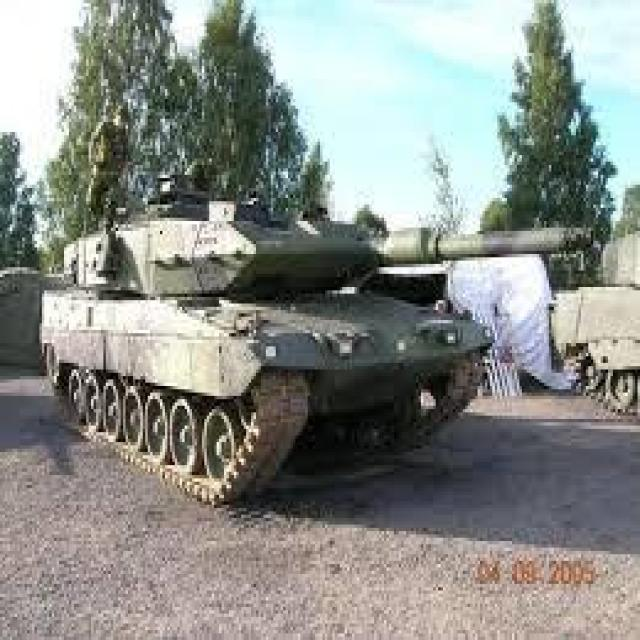MIL_MBT: (27, 168, 610, 501)
